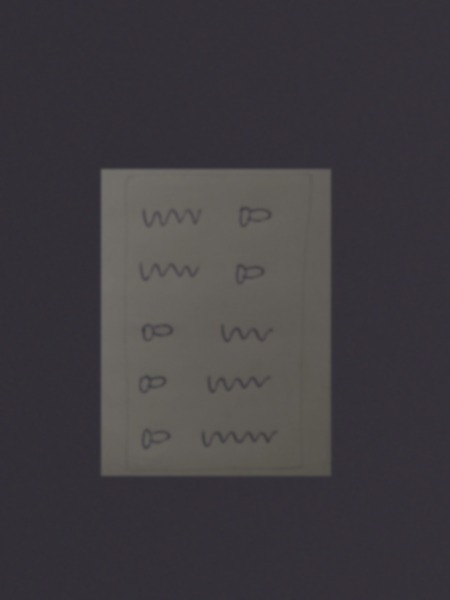switch: (234, 204, 278, 232), (137, 424, 177, 454), (137, 318, 177, 346), (233, 261, 268, 292), (135, 371, 172, 399)
text: (198, 426, 283, 455), (203, 371, 272, 400), (217, 319, 277, 348), (140, 205, 203, 232), (137, 261, 202, 286)
